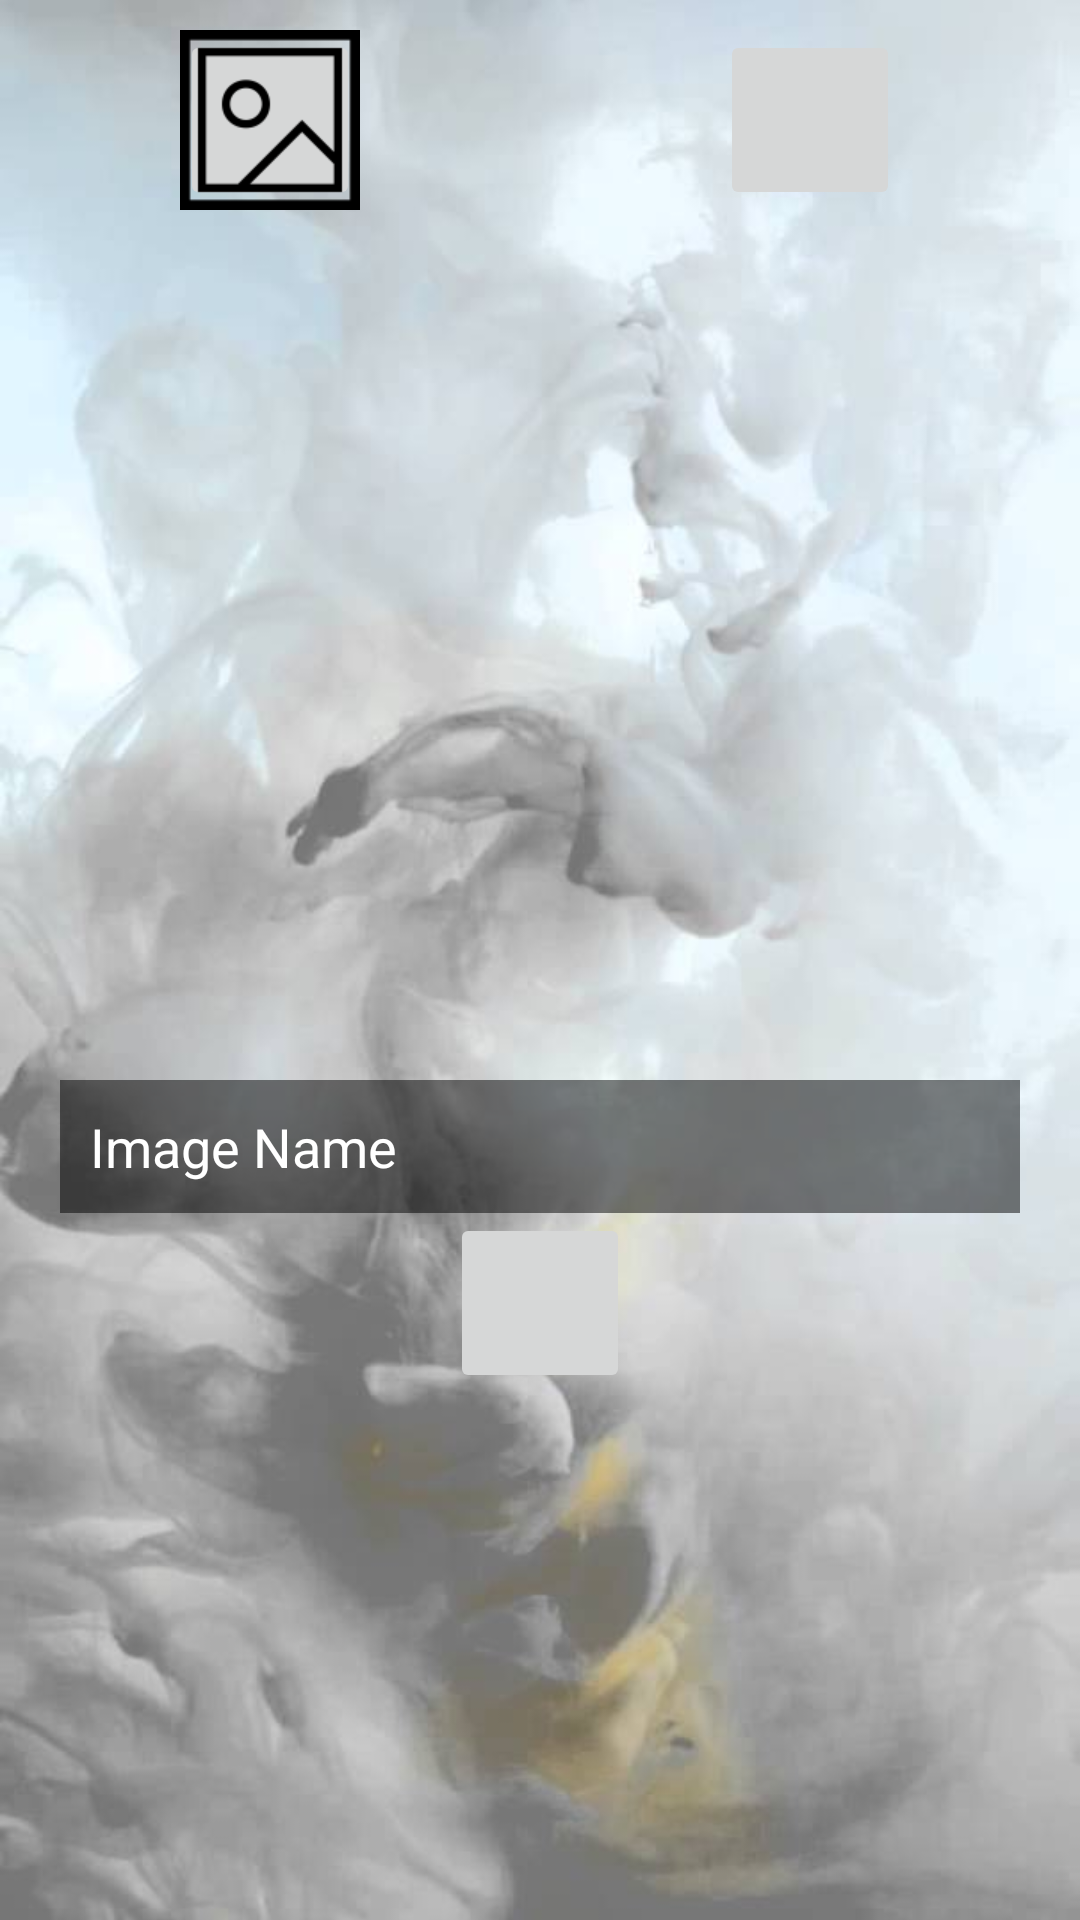

Screen size 1080w x 1920h. Icon name, then its box in pixels as (x1, y1, x2, y2):
multimedia: (180, 30, 360, 210)
